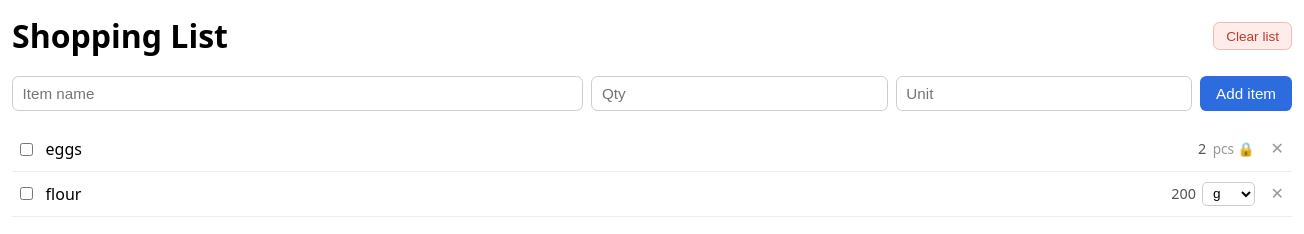
Test: clicking "Clear list" asks for confirmation, then clears everything
Expected: the text "eggs" is shown, [46,137,82,161]
Click the button "Clear list" at {"x": 1253, "y": 36}, box [1213,22,1292,50]
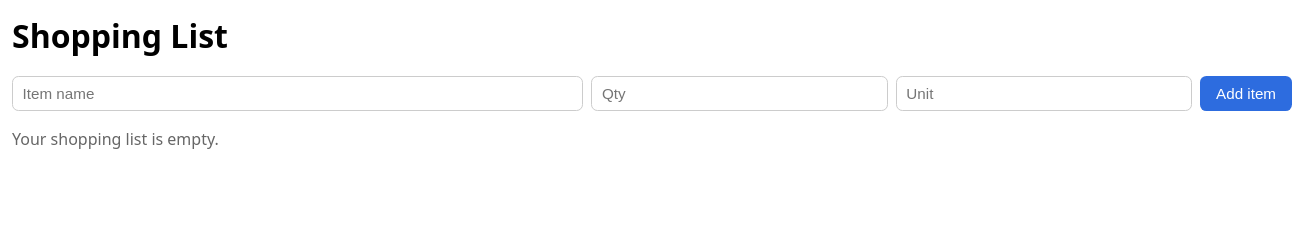
Expected: the text "eggs" is gone
Expected: the text "flour" is gone
Expected: the text "Your shopping list is empty." is shown, [12,128,219,150]
